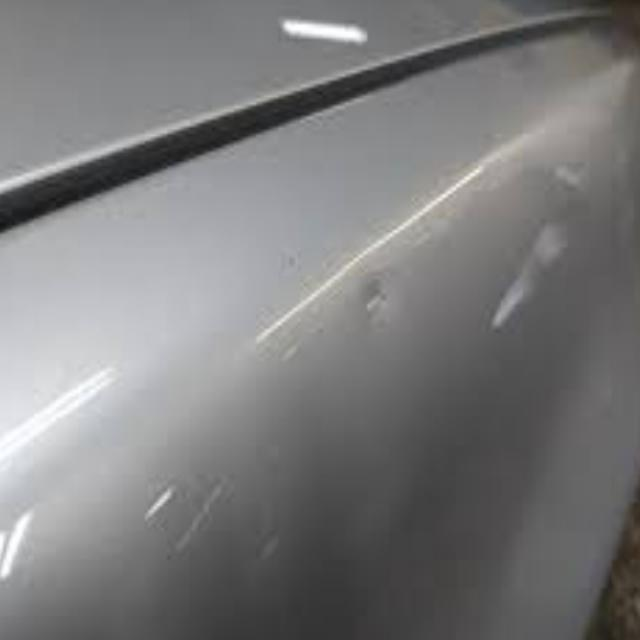dents: (342, 256, 416, 366)
